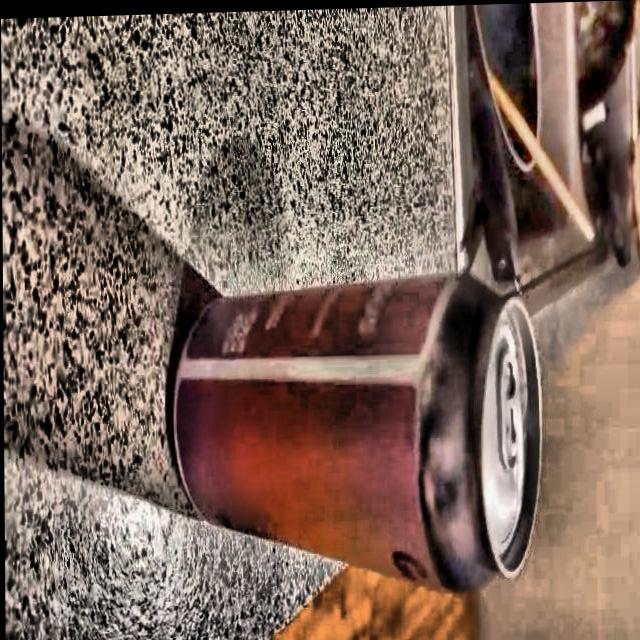Aluminum Can: (157, 258, 550, 615)
